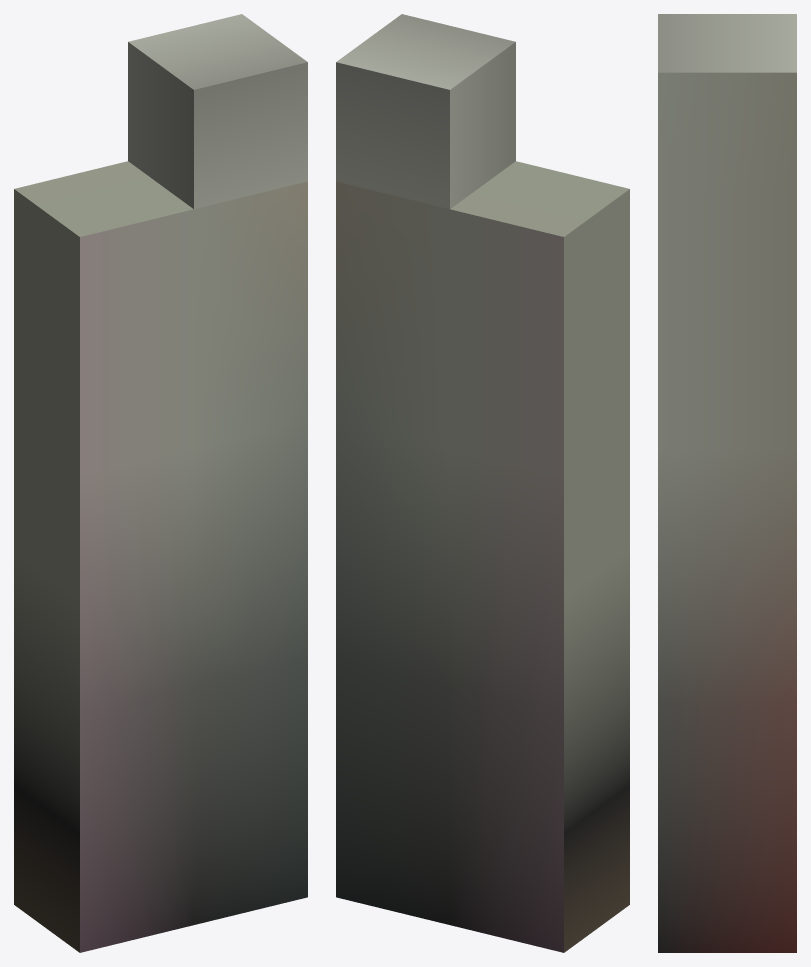
File: Knife_00.fbx
3 views of the same model, side by side, from view 1: azimuth 30°, elevation 25°; view 2: azimuth 150°, elevation 25°; view 3: azimuth 270°, elevation 25° (orthographic). The views are drawn at different scales.
Parts seen in each view (by area): view 1: Knife_00; view 2: Knife_00; view 3: Knife_00.
Part boxes in pixels (x1=…): Knife_00: x1=14, y1=14, x2=307, y2=952; Knife_00: x1=336, y1=14, x2=629, y2=952; Knife_00: x1=658, y1=14, x2=796, y2=952.
Size of the model in its own units: 10 by 5 by 35.
Materials: 1 (1 with a texture image).
